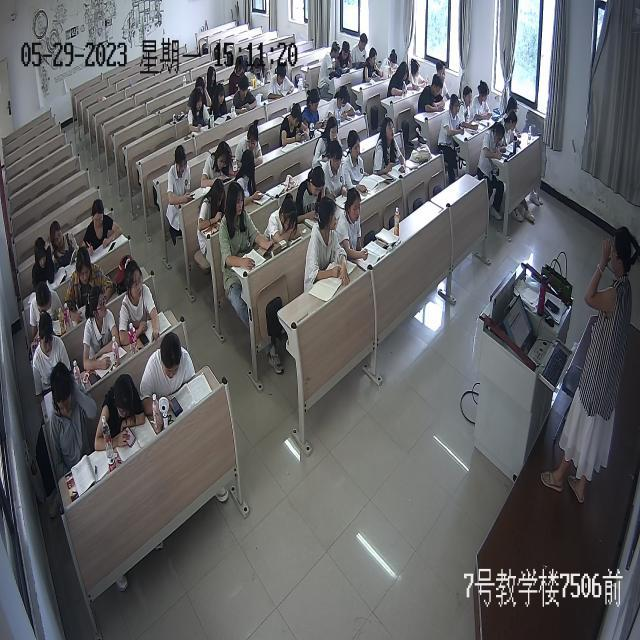distracted: (41, 370, 98, 476), (237, 151, 264, 201), (322, 41, 342, 84), (337, 41, 357, 71)
focused: (305, 195, 354, 285), (62, 248, 116, 316), (116, 258, 160, 340), (82, 286, 125, 368), (31, 312, 73, 391), (372, 118, 413, 174), (80, 200, 124, 250), (28, 280, 67, 334), (338, 188, 366, 256), (28, 238, 62, 292), (295, 166, 331, 216), (321, 140, 351, 200), (197, 180, 230, 233), (344, 130, 371, 192), (314, 116, 344, 167), (235, 121, 266, 162), (442, 94, 470, 135), (418, 76, 448, 113), (264, 64, 297, 97), (387, 62, 417, 98), (478, 121, 506, 159), (233, 78, 263, 111), (472, 80, 493, 119), (499, 110, 522, 145), (210, 86, 235, 118), (349, 34, 373, 67), (434, 62, 454, 95), (362, 48, 384, 78), (458, 86, 476, 122), (380, 49, 402, 77), (250, 57, 271, 85), (232, 56, 249, 86), (207, 66, 220, 94)
sleep: (266, 194, 308, 248)
using_phone: (217, 179, 285, 272), (140, 335, 204, 419), (95, 374, 149, 451), (166, 146, 196, 208), (44, 220, 82, 264), (185, 86, 218, 136), (279, 103, 314, 147), (325, 86, 361, 126), (202, 143, 235, 185), (305, 88, 330, 132), (408, 58, 432, 90)
